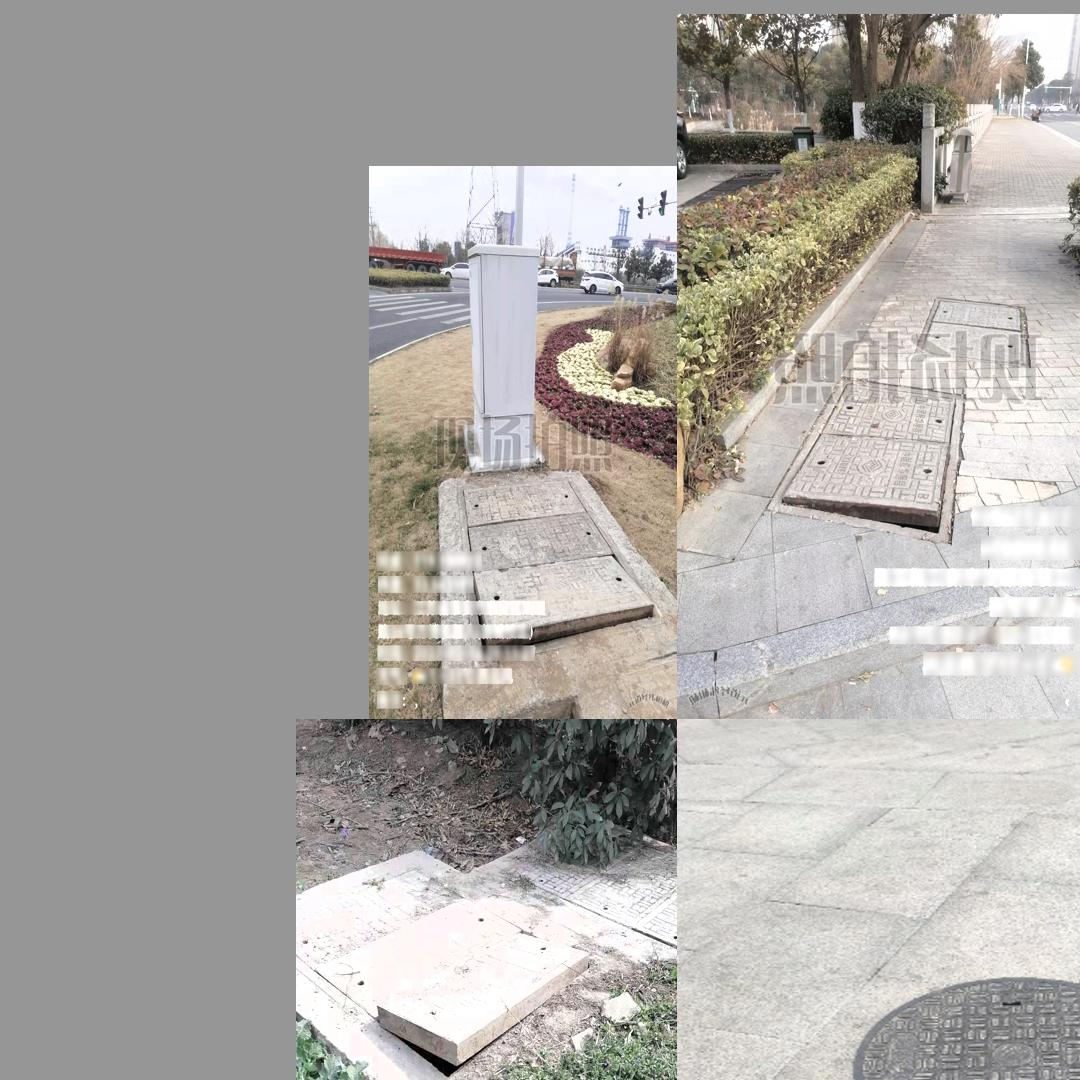good: (514, 809, 676, 947), (914, 297, 1030, 370)
uncovered: (296, 857, 598, 1080), (456, 475, 663, 662), (765, 378, 966, 544), (856, 980, 1080, 1080)
